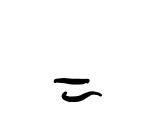eqv: (50, 75, 104, 102)
